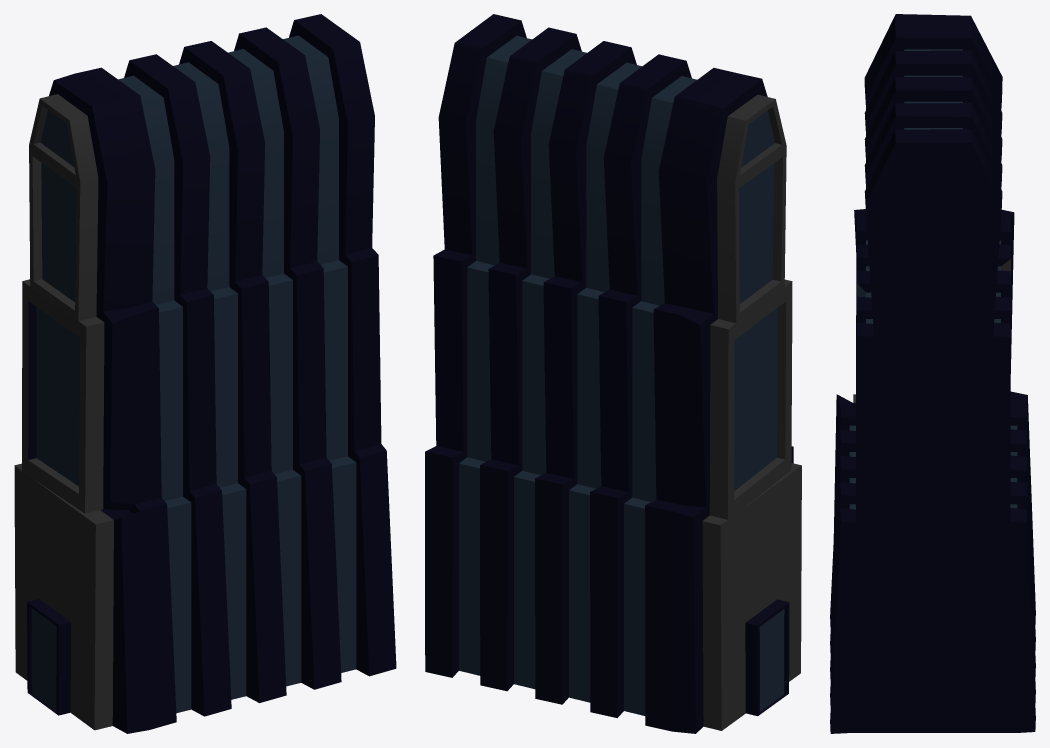
Rendered from Key building.dae.
3 renders of one model, left to right at view 1: azimuth 30°, elevation 25°; view 2: azimuth 150°, elevation 25°; view 3: azimuth 270°, elevation 25°, orthographic. The views are drawn at different scales.
Visible parts, largest first — view 1: Square_tower2FBXASC058pCube1; view 2: Square_tower2FBXASC058pCube1; view 3: Square_tower2FBXASC058pCube1.
Boxes of the visible parts, <box> form: Square_tower2FBXASC058pCube1: <box>14,14,396,733</box>; Square_tower2FBXASC058pCube1: <box>425,14,801,733</box>; Square_tower2FBXASC058pCube1: <box>830,14,1035,733</box>.
Bounding box in the file's own units: 5.07 × 9.72 × 3.07.
